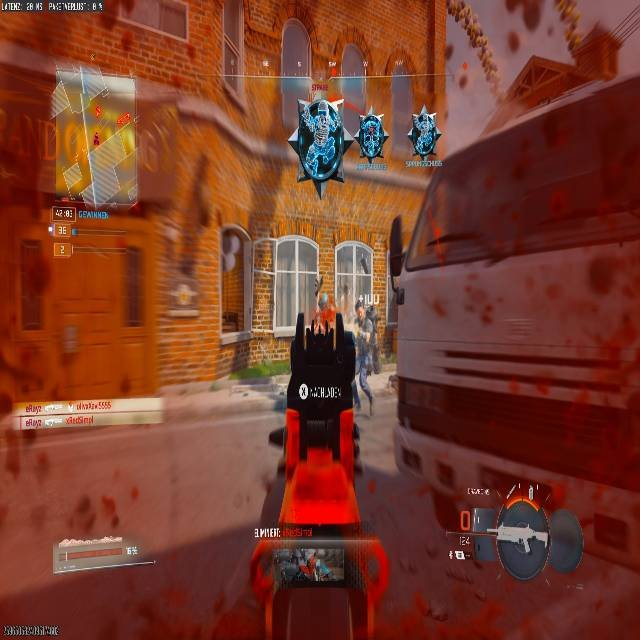player: (288, 94, 346, 198), (354, 298, 381, 379), (352, 337, 375, 413), (408, 107, 439, 161)
